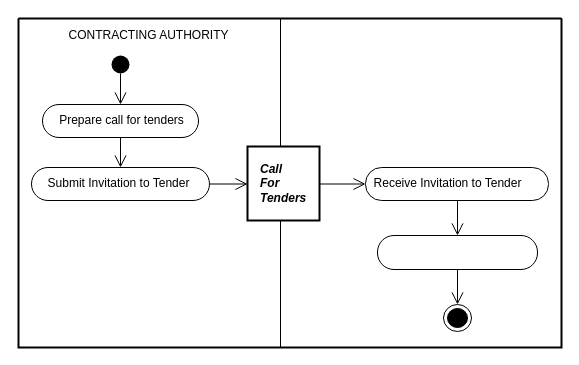
Image size: 579x365. Some labels were removed from this diagram. Here are the shapes that lost their labels. From the top down, the box of each, then its label:
(280, 18, 562, 348): ECONOMIC OPERATOR
(376, 234, 538, 270): Process Call For Tenders
